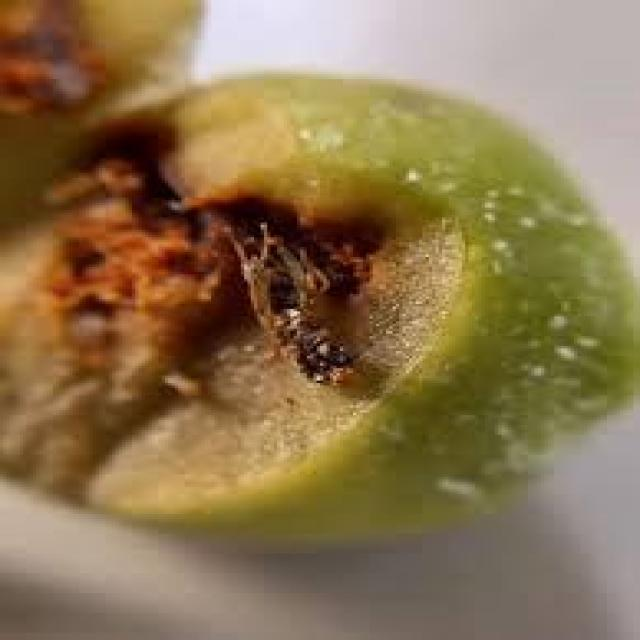Olive Fruit Fly: (3, 77, 633, 534)
